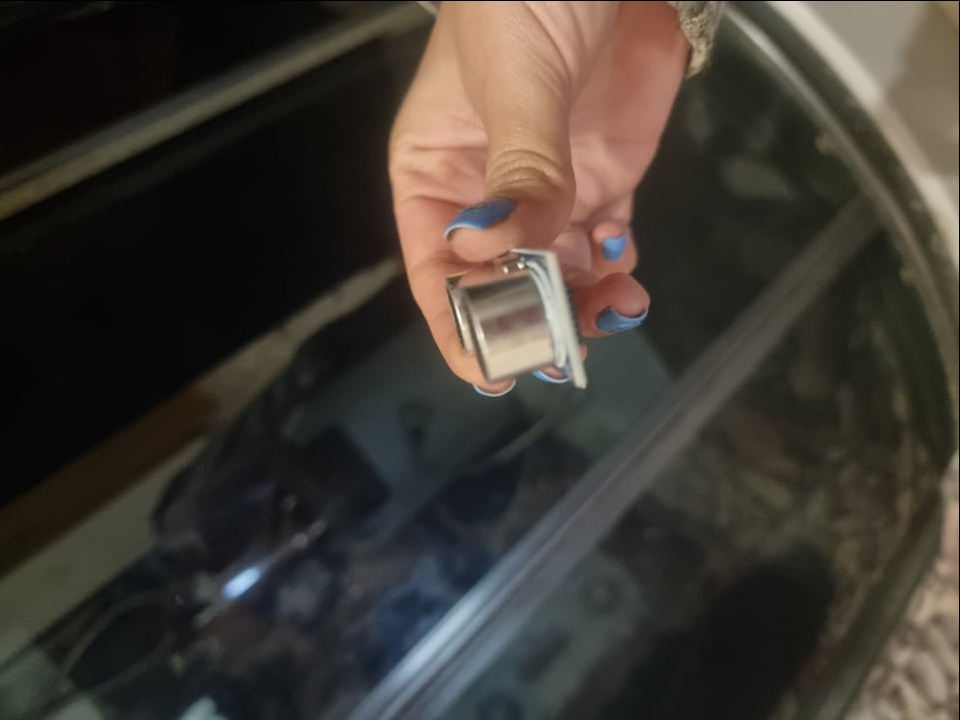SENSOR: (444, 246, 591, 389)
